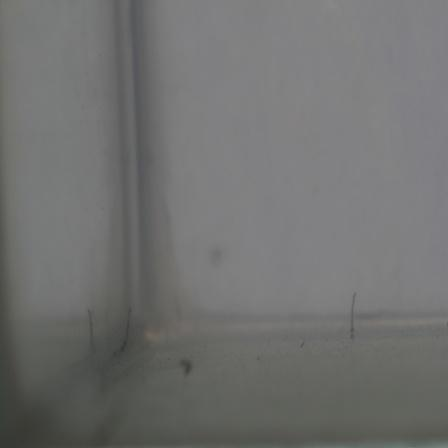Jentik-Nyamuk: (116, 300, 135, 355), (343, 289, 361, 339)
